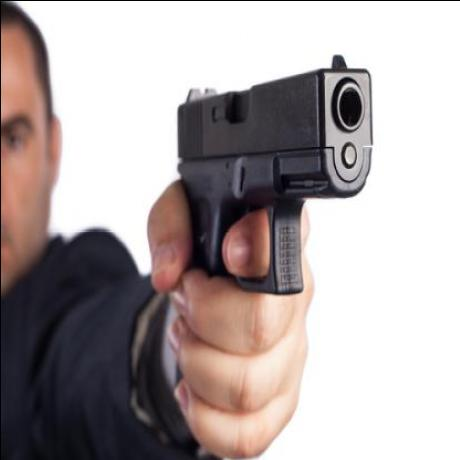1: (120, 175, 324, 452)
weapon: (143, 57, 383, 436)
